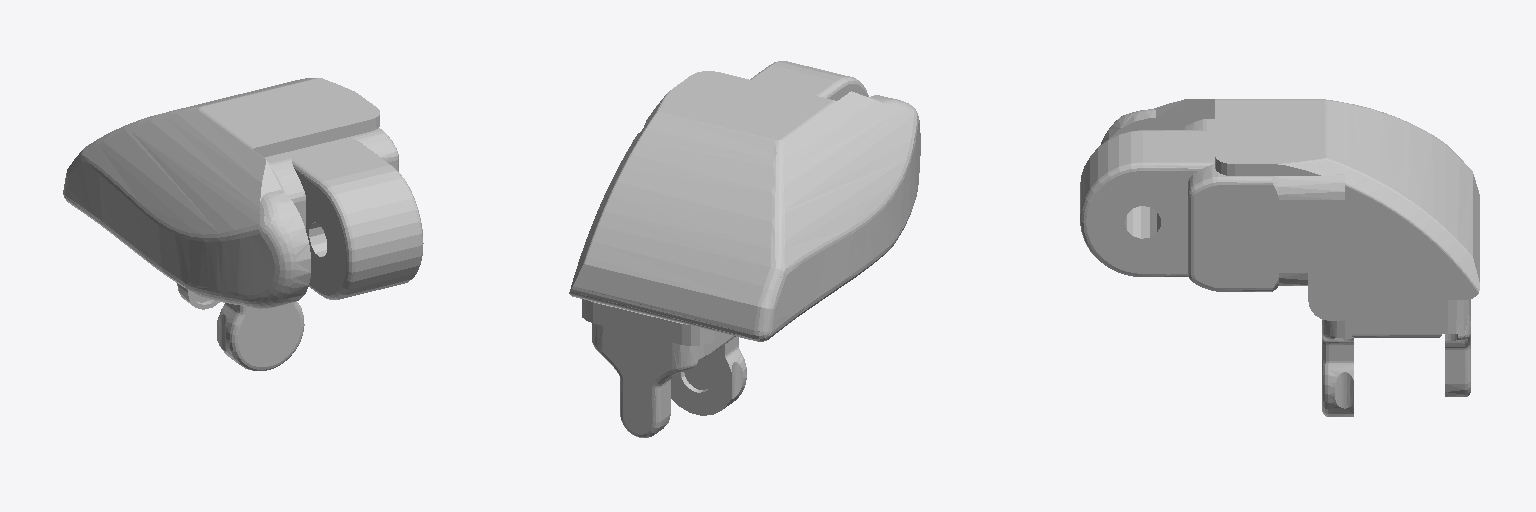
File: ll_dg_5_1_c_mesh_World_mesh.obj
3 renders of one model, left to right at view 1: azimuth 30°, elevation 25°; view 2: azimuth 150°, elevation 25°; view 3: azimuth 270°, elevation 25°, orthographic.
Bounding box in the file's own units: 0.0344 × 0.0465 × 0.0601.